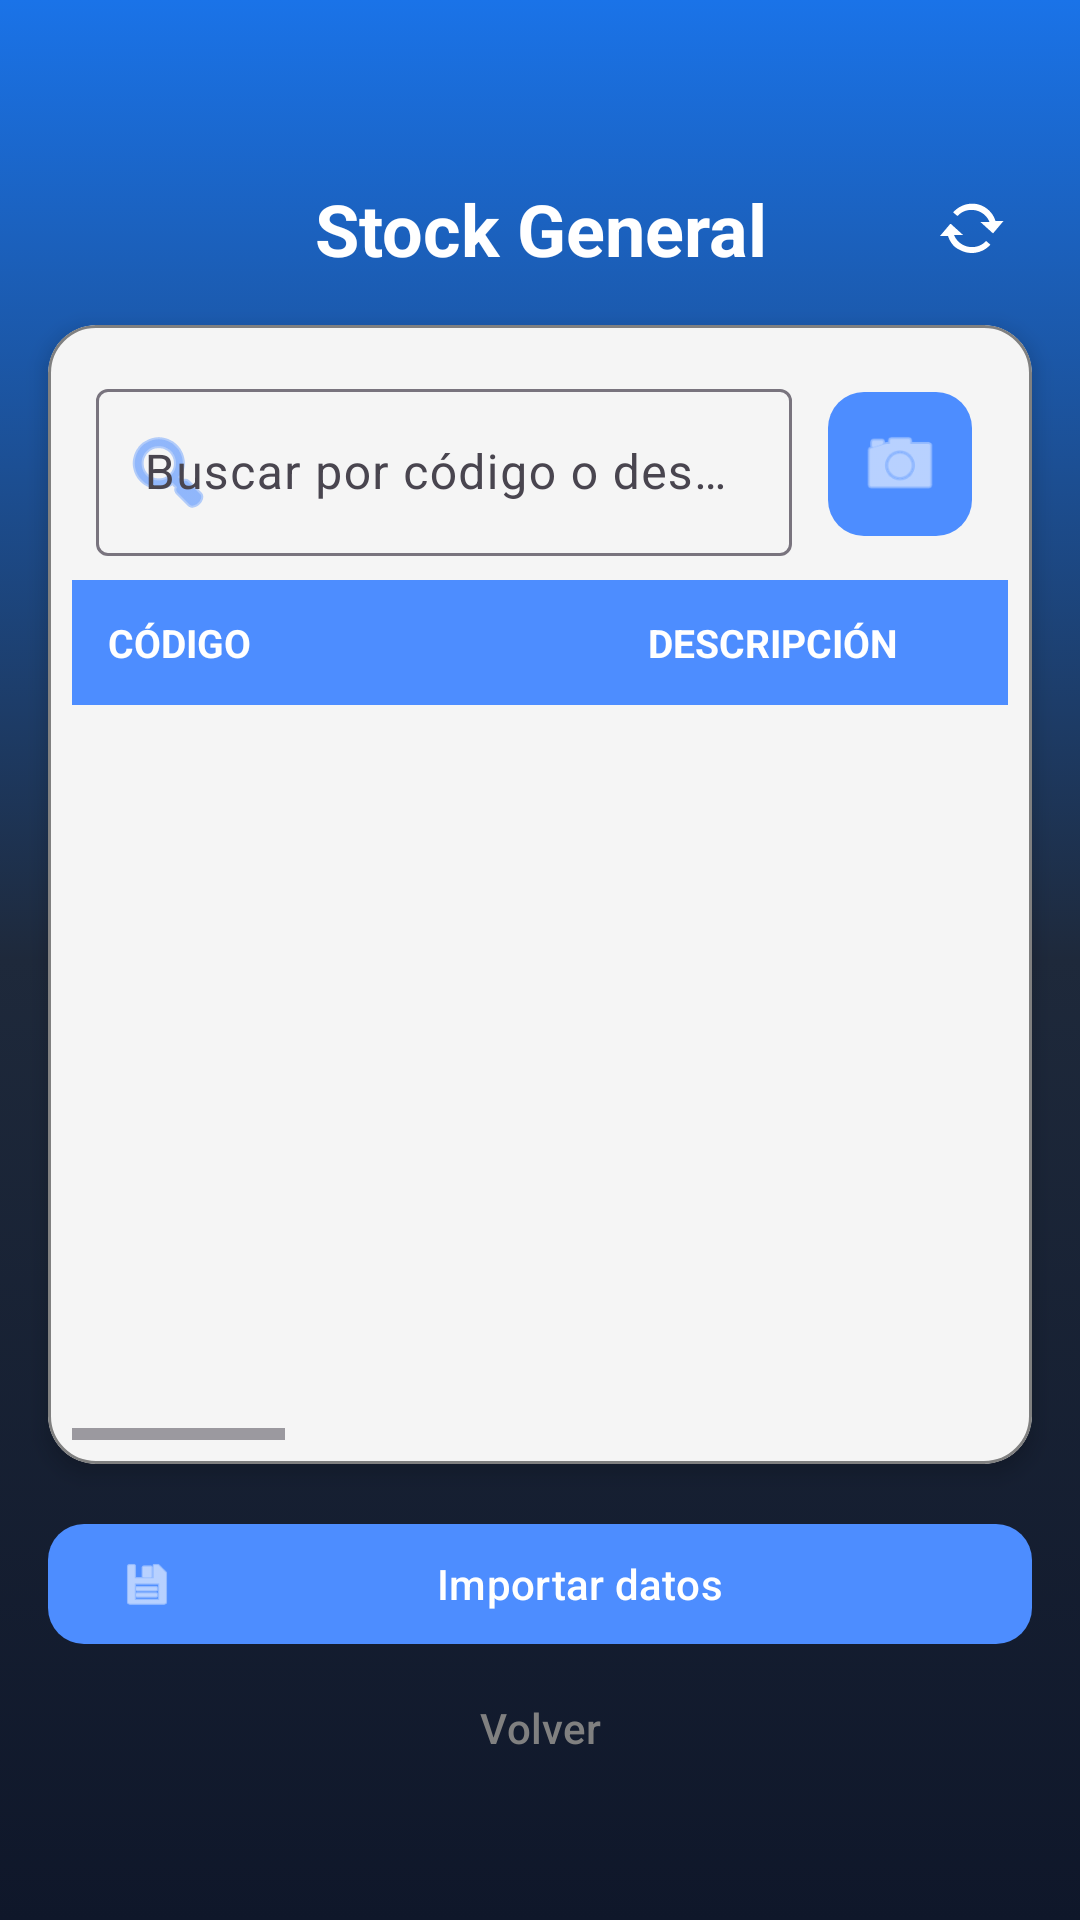

Icon bounding boxes for this 1080px×1920px phone screenshot, format (x1, y1, x2, y2):
Escanear QR: (828, 392, 972, 536)
